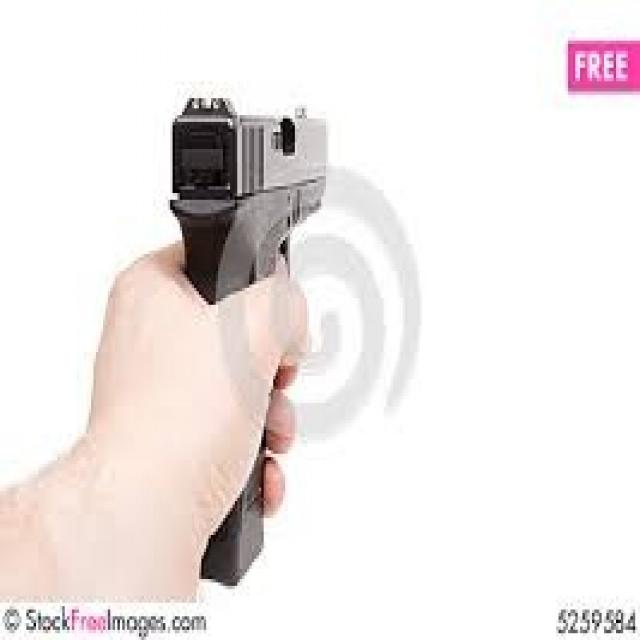gun: (148, 71, 331, 586)
